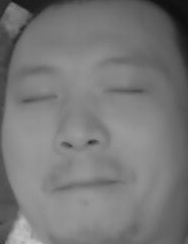blink: (104, 81, 146, 104), (21, 86, 59, 110)
mouth: (41, 171, 121, 205)
